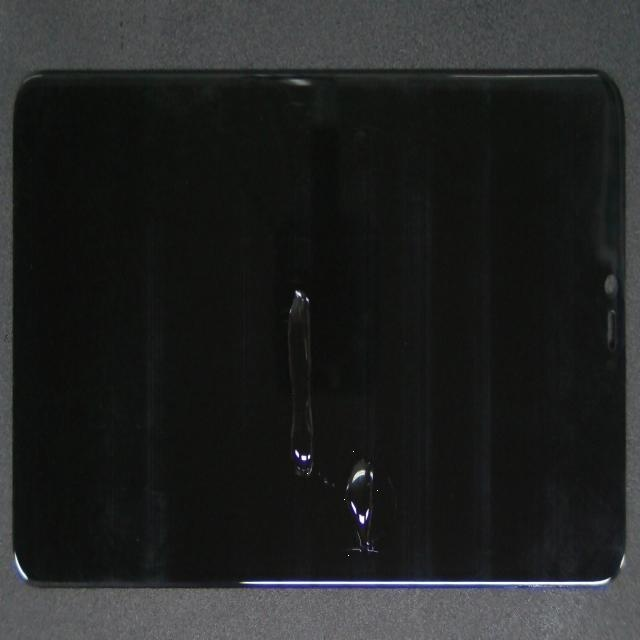oil: (193, 200, 533, 640), (170, 141, 462, 415)
